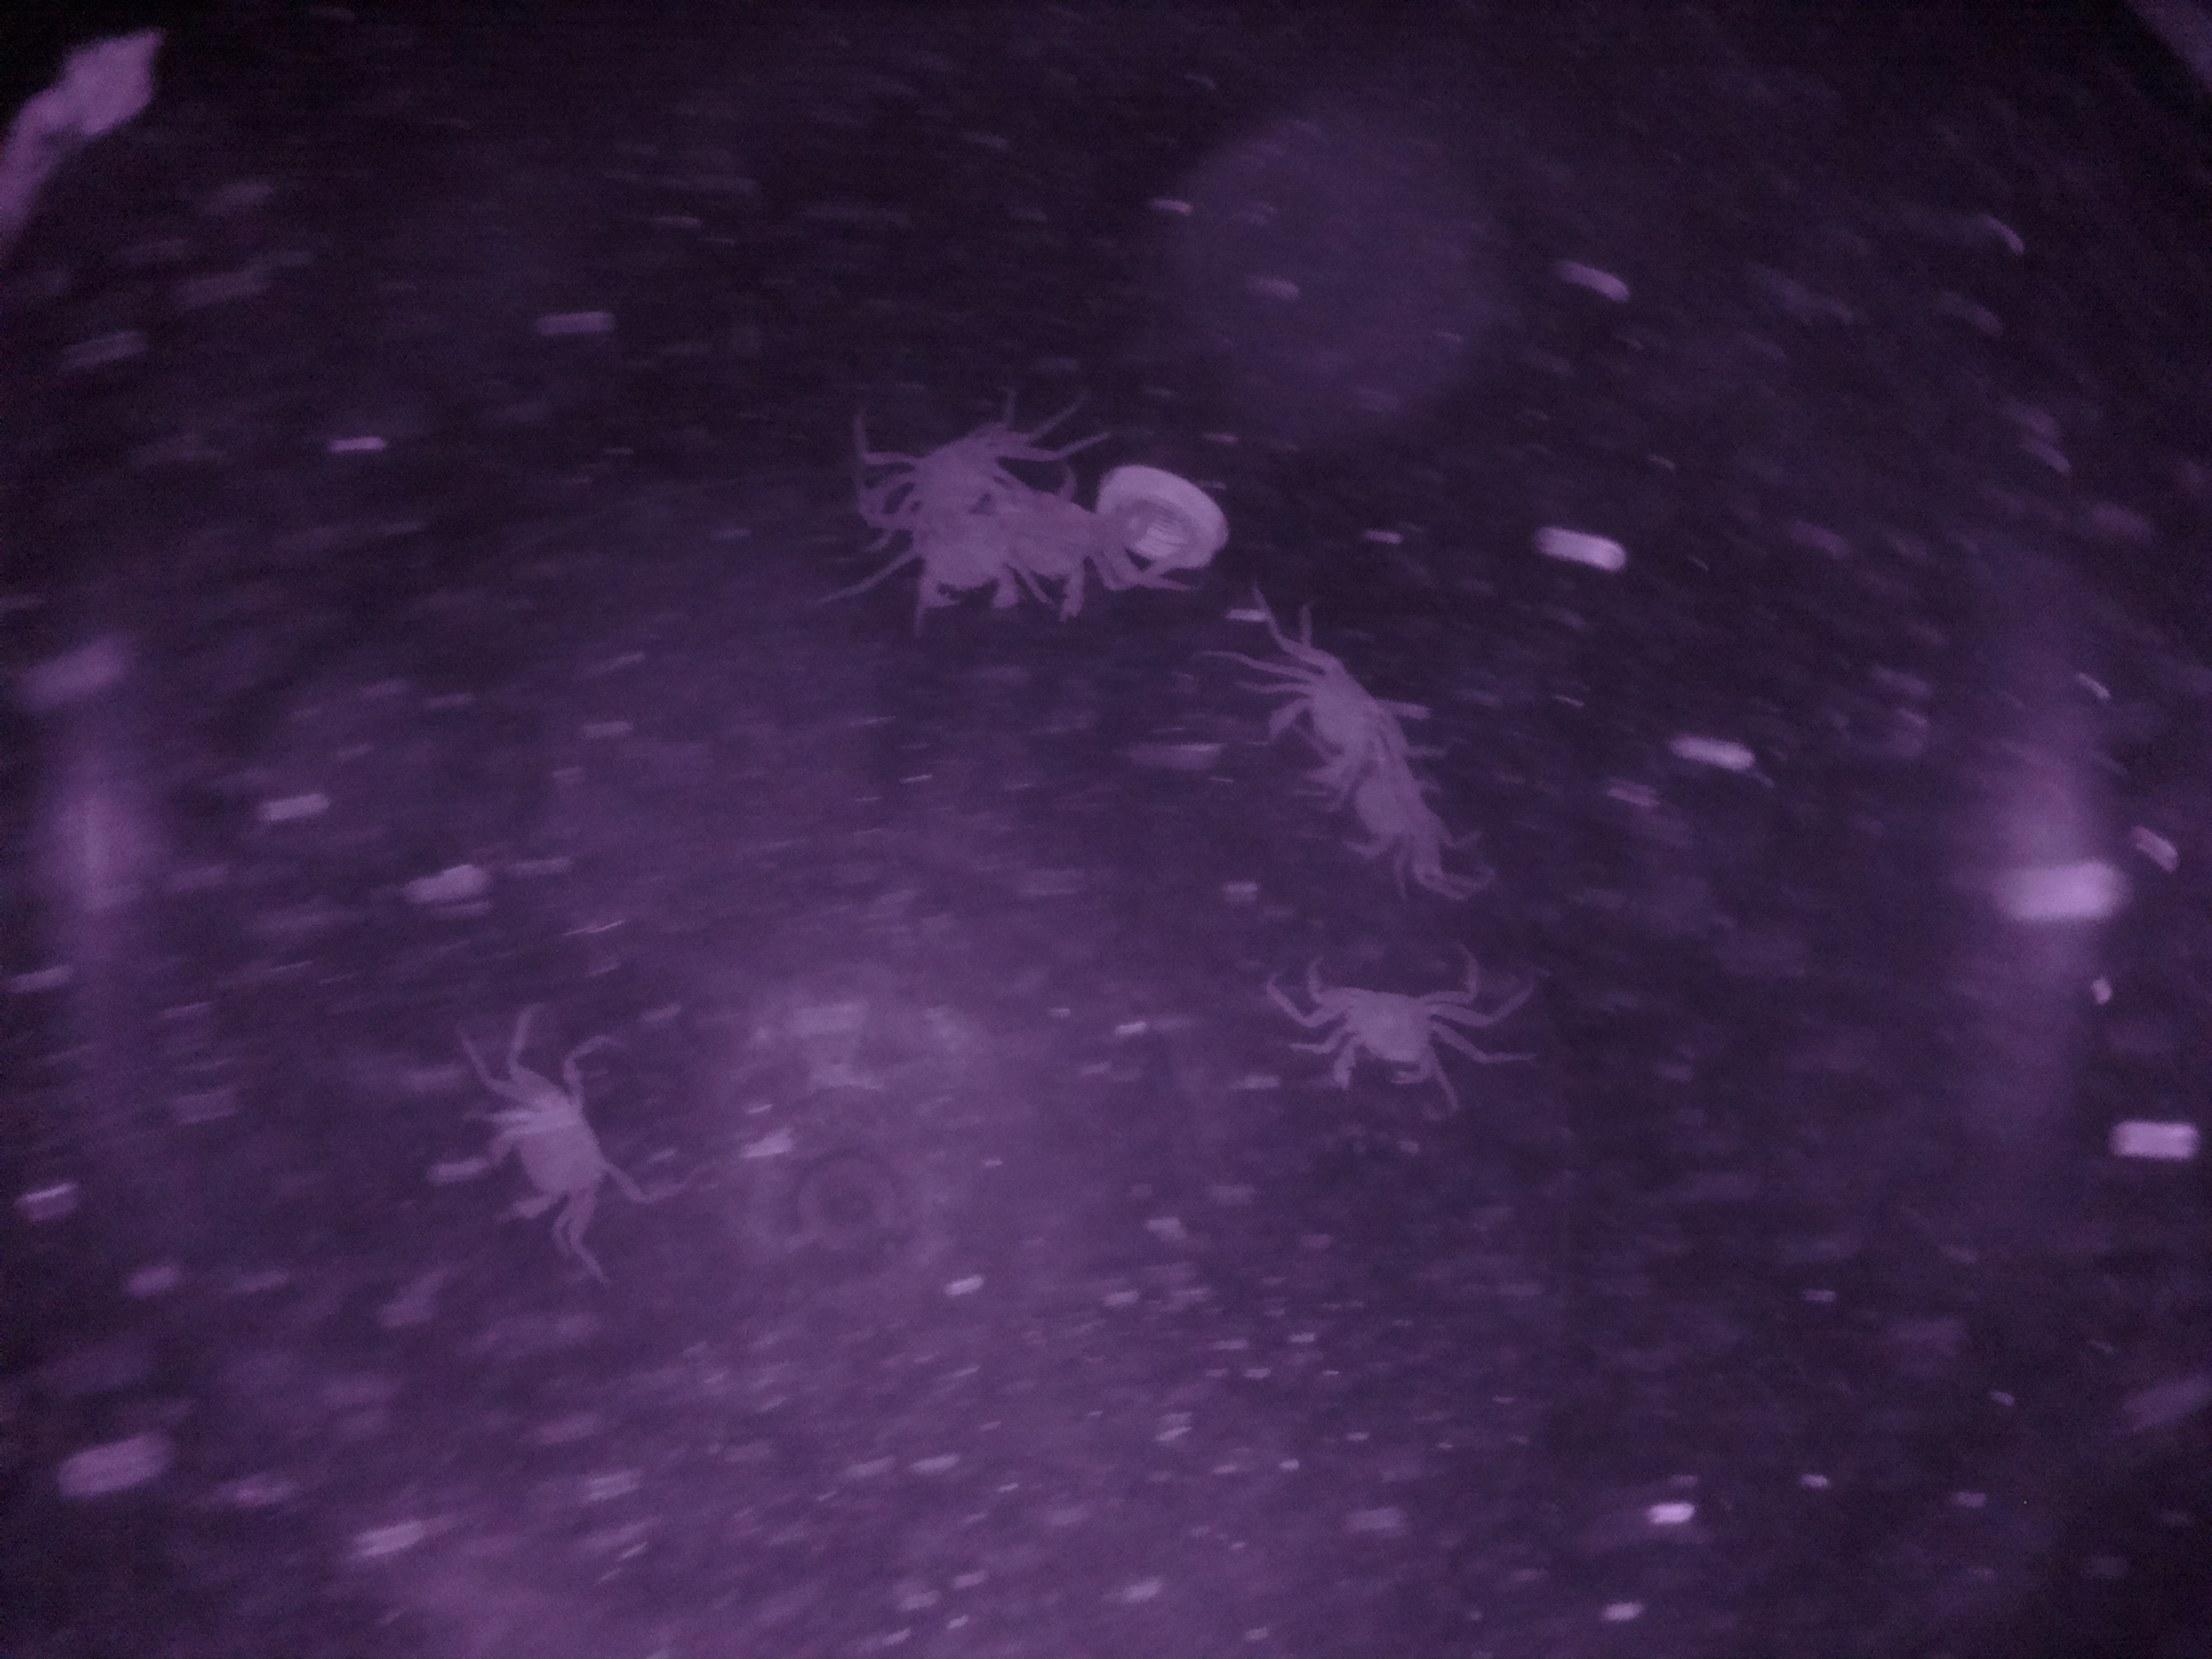Crab: (1268, 941, 1526, 1101), (1245, 615, 1430, 823)
